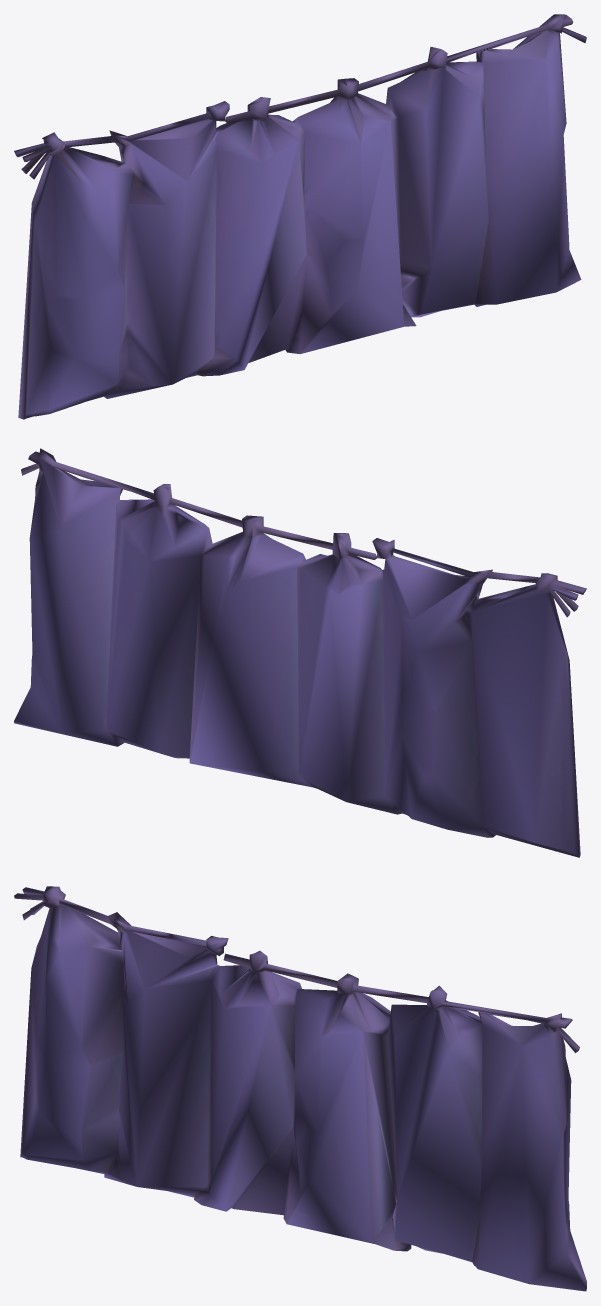
File: model.progressive.glb
The picture shows the model from 3 angles, top to bottom: view 1: azimuth 30°, elevation 25°; view 2: azimuth 150°, elevation 25°; view 3: azimuth 330°, elevation 25°; orthographic projection.
Visible parts, largest first — view 1: material; view 2: material; view 3: material.
Part boxes in pixels (x1,y1,x2,y2): material: [14, 14, 586, 419]; material: [14, 448, 586, 857]; material: [14, 886, 586, 1291].
Bounding box in the file's own units: 1.9 × 0.8885 × 0.2695.
1 material, 1 textured.
